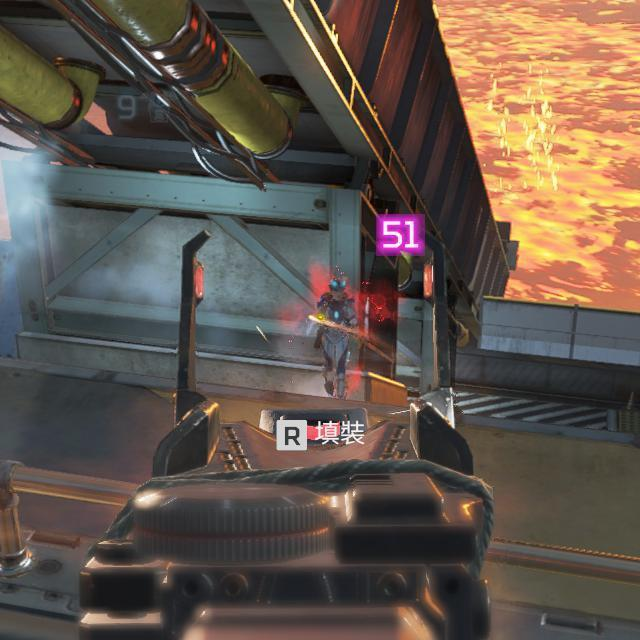avatar: (310, 278, 358, 399)
